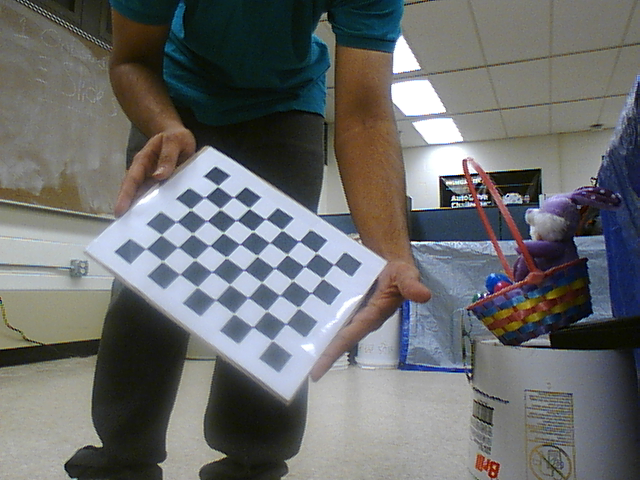bunny: (454, 157, 606, 344)
